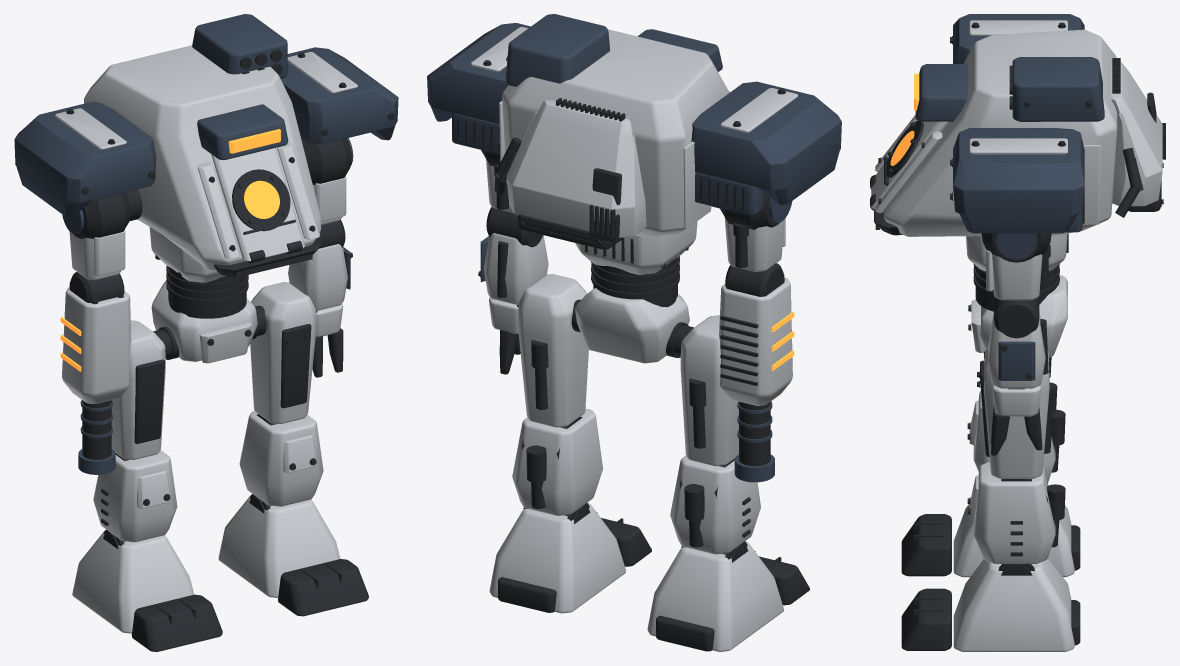
File: Titan_M1.fbx
3 renders of one model, left to right at view 1: azimuth 30°, elevation 25°; view 2: azimuth 150°, elevation 25°; view 3: azimuth 270°, elevation 25°, orthographic. The views are drawn at different scales.
Visible parts, largest first — view 1: M1_Torso_Upper, M1_Shoulder_R, M1_Cannon, M1_Shoulder_L, M1_Foot_L, M1_Foot_R, M1_Thigh_L, M1_Hatch_Center, M1_Shin_L, M1_Shin_R, M1_Thigh_R, M1_Pelvis (+13 smaller); view 2: M1_Torso_Upper, M1_Backpack, M1_Shoulder_R, M1_Cannon, M1_Foot_R, M1_Foot_L, M1_Thigh_L, M1_Shin_L, M1_Shoulder_L, M1_Shin_R, M1_Thigh_R, M1_Pelvis (+10 smaller); view 3: M1_Torso_Upper, M1_Shoulder_L, M1_Foot_L, M1_Shin_L, M1_Backpack, M1_Pod_L, M1_Forearm_L, M1_Thigh_L, M1_UpperArm_L, M1_Shoulder_R, M1_Toe_R, M1_Toe_L (+10 smaller).
Part boxes in pixels (x1=…): M1_Torso_Upper: x1=84, y1=45, x2=321, y2=277; M1_Shoulder_R: x1=14, y1=101, x2=156, y2=217; M1_Cannon: x1=60, y1=272, x2=131, y2=474; M1_Shoulder_L: x1=281, y1=47, x2=398, y2=144; M1_Foot_L: x1=218, y1=495, x2=340, y2=597; M1_Foot_R: x1=72, y1=531, x2=194, y2=633; M1_Thigh_L: x1=250, y1=282, x2=317, y2=423; M1_Hatch_Center: x1=211, y1=148, x2=304, y2=263; M1_Shin_L: x1=239, y1=411, x2=323, y2=506; M1_Shin_R: x1=93, y1=450, x2=177, y2=542; M1_Thigh_R: x1=111, y1=320, x2=165, y2=459; M1_Pelvis: x1=151, y1=280, x2=258, y2=363; M1_Torso_Upper: x1=499, y1=29, x2=728, y2=237; M1_Backpack: x1=494, y1=98, x2=646, y2=249; M1_Shoulder_R: x1=691, y1=81, x2=841, y2=215; M1_Cannon: x1=719, y1=263, x2=794, y2=482; M1_Foot_R: x1=647, y1=541, x2=783, y2=651; M1_Foot_L: x1=489, y1=502, x2=625, y2=613; M1_Thigh_L: x1=517, y1=274, x2=588, y2=427; M1_Shin_L: x1=512, y1=408, x2=602, y2=515; M1_Shoulder_L: x1=427, y1=23, x2=530, y2=154; M1_Shin_R: x1=670, y1=455, x2=760, y2=554; M1_Thigh_R: x1=680, y1=315, x2=738, y2=466; M1_Pelvis: x1=575, y1=288, x2=689, y2=363; M1_Torso_Upper: x1=874, y1=29, x2=1117, y2=236; M1_Shoulder_L: x1=950, y1=128, x2=1084, y2=233; M1_Foot_L: x1=953, y1=558, x2=1080, y2=651; M1_Shin_L: x1=967, y1=462, x2=1065, y2=563; M1_Backpack: x1=1111, y1=58, x2=1165, y2=217; M1_Pod_L: x1=1009, y1=57, x2=1104, y2=121; M1_Forearm_L: x1=988, y1=297, x2=1048, y2=388; M1_Thigh_L: x1=977, y1=348, x2=1057, y2=478; M1_UpperArm_L: x1=981, y1=233, x2=1051, y2=300; M1_Shoulder_R: x1=950, y1=14, x2=1084, y2=63; M1_Toe_R: x1=901, y1=514, x2=951, y2=576; M1_Toe_L: x1=901, y1=588, x2=951, y2=650.
Size of the model in its own units: 3.9 by 5.92 by 2.88.
